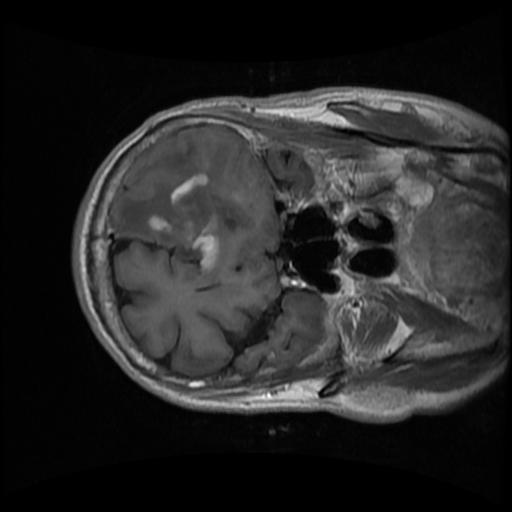glioma: (116, 136, 252, 279)
